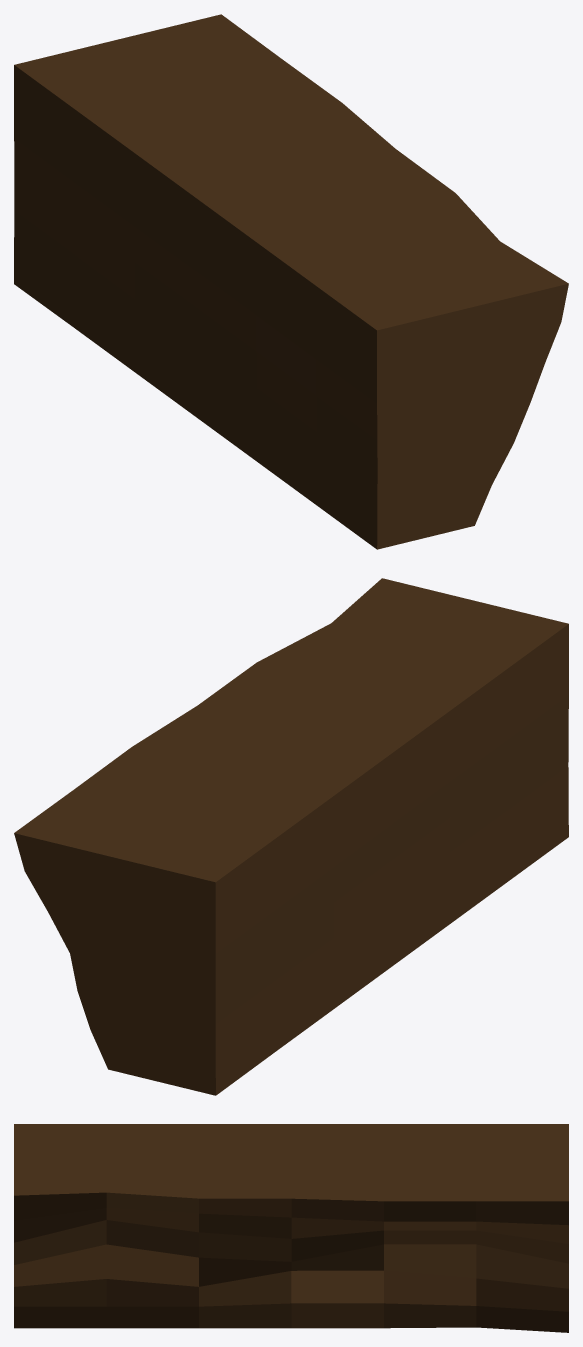
Rendered from right_gneral_block.fbx.
3 views of the same model, one above another, from view 1: azimuth 30°, elevation 25°; view 2: azimuth 150°, elevation 25°; view 3: azimuth 270°, elevation 25° (orthographic). The views are drawn at different scales.
Parts seen in each view (by area): view 1: Cube.014; view 2: Cube.014; view 3: Cube.014.
Boxes of the visible parts, x1,y1,x2,y2 form: Cube.014: (14,14,568,549); Cube.014: (14,578,568,1095); Cube.014: (14,1124,568,1332).
Bounding box in the file's own units: 198 × 200 × 600.
